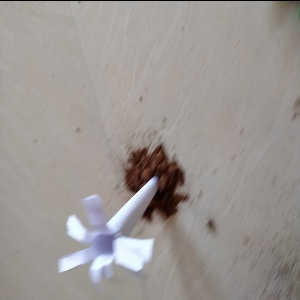weed: (66, 171, 178, 281)
